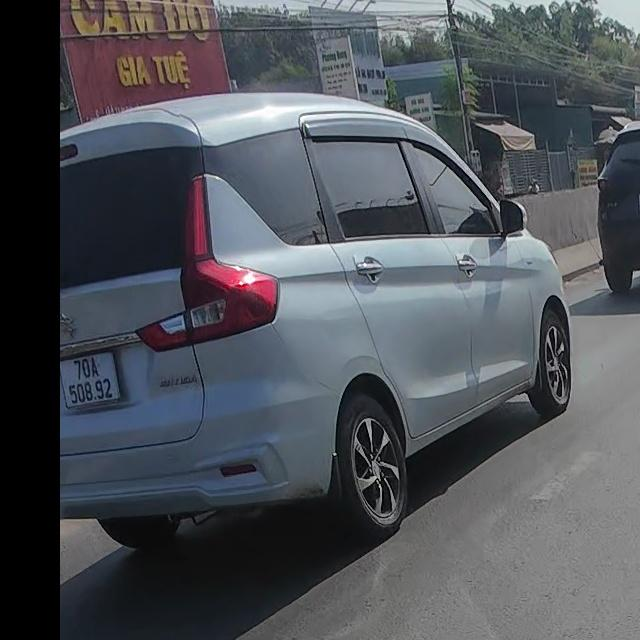license-plate: (59, 351, 121, 412)
